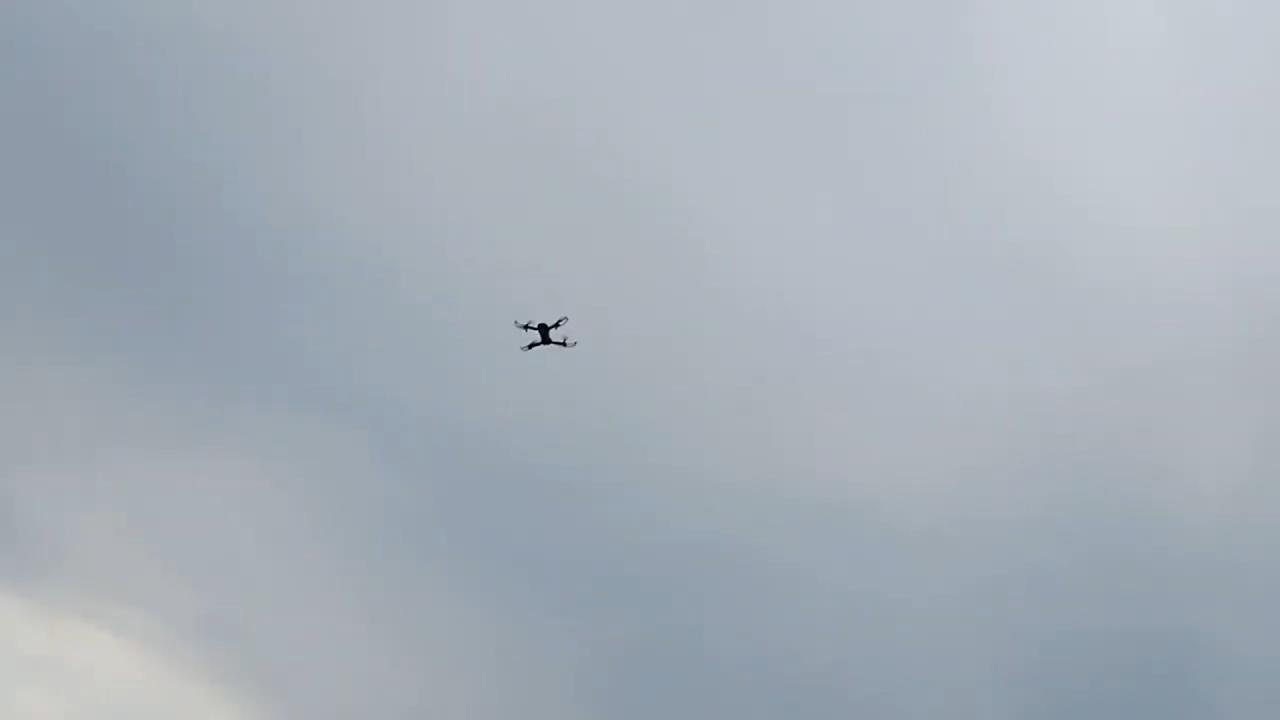Drone: (498, 304, 592, 364)
